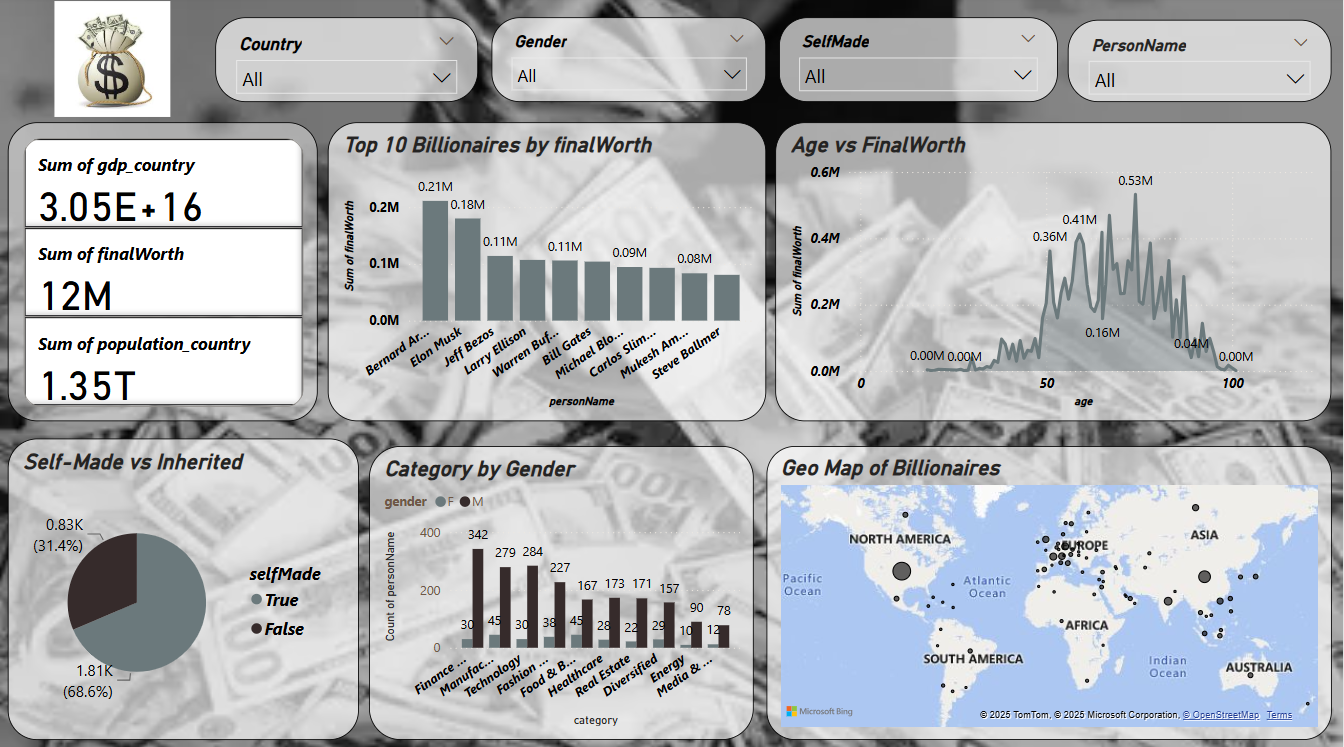

What the dashboard file says about the page in this screenshot:
{"tool":"powerbi","page":{"name":"Page 1","canvas":[1280,720],"ordinal":0},"visuals":[{"type":"clusteredColumnChart","title":"Top 10 Billionaires by finalWorth","fields":{"Category":["cleaned_billionaires.personName"],"Y":["cleaned_billionaires.finalWorth"]},"box":[313.1,120.2,417.9,284.5],"z":0},{"type":"pieChart","title":" Self-Made vs Inherited","fields":{"Y":["cleaned_billionaires.personName"],"Category":["cleaned_billionaires.selfMade"]},"box":[8.3,421.4,334.5,286.9],"z":1},{"type":"lineChart","title":"Age vs FinalWorth","fields":{"Y":["cleaned_billionaires.finalWorth"],"Category":["cleaned_billionaires.age"]},"box":[739.3,120.2,529.8,284.5],"z":2},{"type":"clusteredColumnChart","title":"Category by Gender","fields":{"Category":["cleaned_billionaires.category"],"Series":["cleaned_billionaires.gender"],"Y":["cleaned_billionaires.personName"]},"box":[352.4,428.6,366.7,279.8],"z":3},{"type":"map","title":"Geo Map of Billionaires","fields":{"Category":["cleaned_billionaires.country"],"Size":["cleaned_billionaires.finalWorth"]},"box":[731,428.6,538.1,279.8],"z":4},{"type":"cardVisual","fields":{"Data":["cleaned_billionaires.gdp_country","cleaned_billionaires.finalWorth","cleaned_billionaires.population_country"]},"box":[8.3,120.2,295.2,284.5],"z":5},{"type":"slicer","fields":{"Values":["cleaned_billionaires.country"]},"box":[206,20.2,250,81],"z":6},{"type":"slicer","fields":{"Values":["cleaned_billionaires.gender"]},"box":[469.1,20.2,261.9,81],"z":7},{"type":"slicer","fields":{"Values":["cleaned_billionaires.selfMade"]},"box":[742.9,20.2,265.5,81],"z":8},{"type":"slicer","fields":{"Values":["cleaned_billionaires.personName"]},"box":[1017.9,22.6,251.2,78.6],"z":9},{"type":"image","box":[0,0,215.5,120.2],"z":10}]}

Visuals, with their boxes in screenshot pixels (x1, y1, x2, y2), scaled from the page's 1280x720 canvas onto the 1344x747 screenshot:
"Top 10 Billionaires by finalWorth" clusteredColumnChart: [329, 125, 768, 420]
" Self-Made vs Inherited" pieChart: [9, 437, 360, 735]
"Age vs FinalWorth" lineChart: [776, 125, 1333, 420]
"Category by Gender" clusteredColumnChart: [370, 445, 755, 735]
"Geo Map of Billionaires" map: [768, 445, 1333, 735]
cardVisual - cleaned_billionaires.gdp_country x cleaned_billionaires.finalWorth: [9, 125, 319, 420]
slicer - cleaned_billionaires.country: [216, 21, 479, 105]
slicer - cleaned_billionaires.gender: [493, 21, 768, 105]
slicer - cleaned_billionaires.selfMade: [780, 21, 1059, 105]
slicer - cleaned_billionaires.personName: [1069, 23, 1333, 105]
image: [0, 0, 226, 125]
